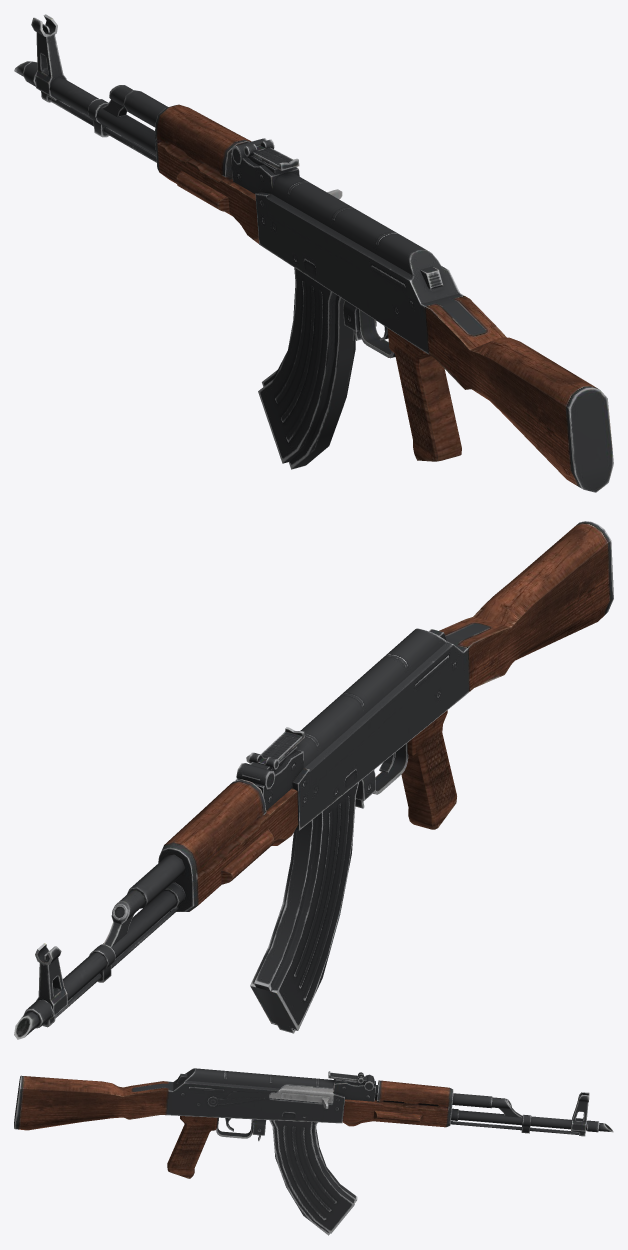
The picture shows the model from 3 angles, top to bottom: view 1: azimuth 30°, elevation 25°; view 2: azimuth 150°, elevation 25°; view 3: azimuth 270°, elevation 25°; orthographic projection. The views are drawn at different scales.
Parts seen in each view (by area): view 1: 0; view 2: 0; view 3: 0.
Boxes of the visible parts, x1,y1,x2,y2 form: 0: [14, 14, 613, 492]; 0: [14, 521, 613, 1039]; 0: [14, 1068, 613, 1235].
Bounding box in the file's own units: 0.0748 × 0.2983 × 1.
1 material, 1 textured.
